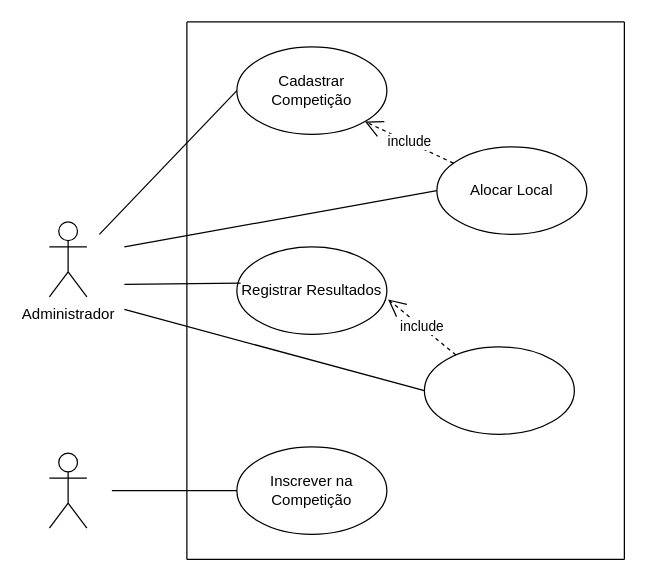
Image size: 648x583. Some labels were removed from this diagram. The centre of each missing label's shape, as x and y in pixels:
Atleta: the point at 67,490
Gerar Relatorio de Medalhas: the point at 498,390
